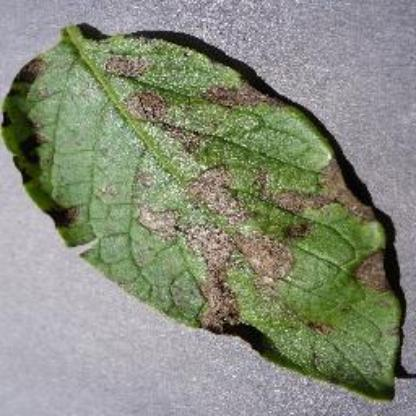Early-Blight: (10, 17, 404, 403)
